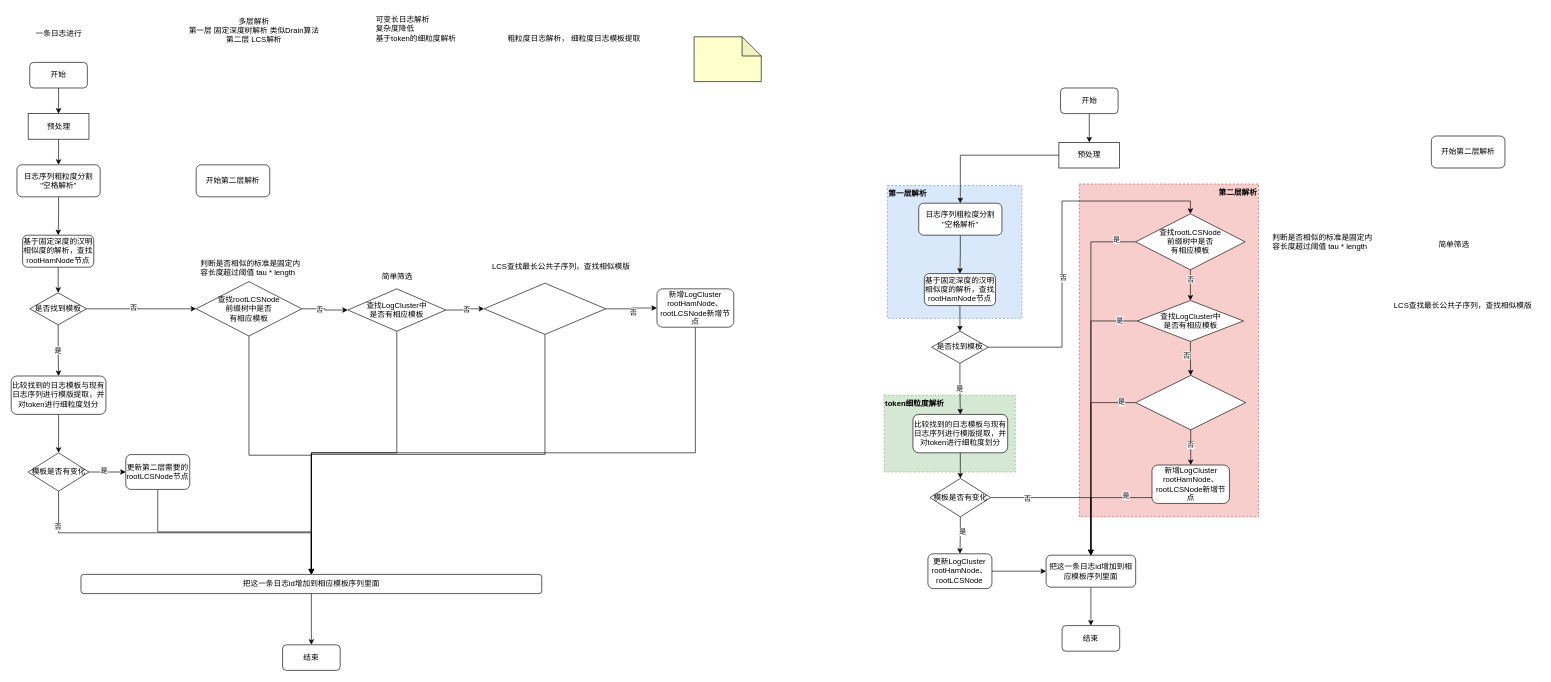
The diagram is 1551 pixels wide and 682 high, and some of its shapes have lost their labels. Each missing label, with the centre of its shape:
"通过LCS 算法 查找 LogCluster中 最相似的模板" goes at point (1190, 402).
"通过设置阈值，通过LCS 算法 查找LogCluster中 最相似的模板" goes at point (545, 308).
